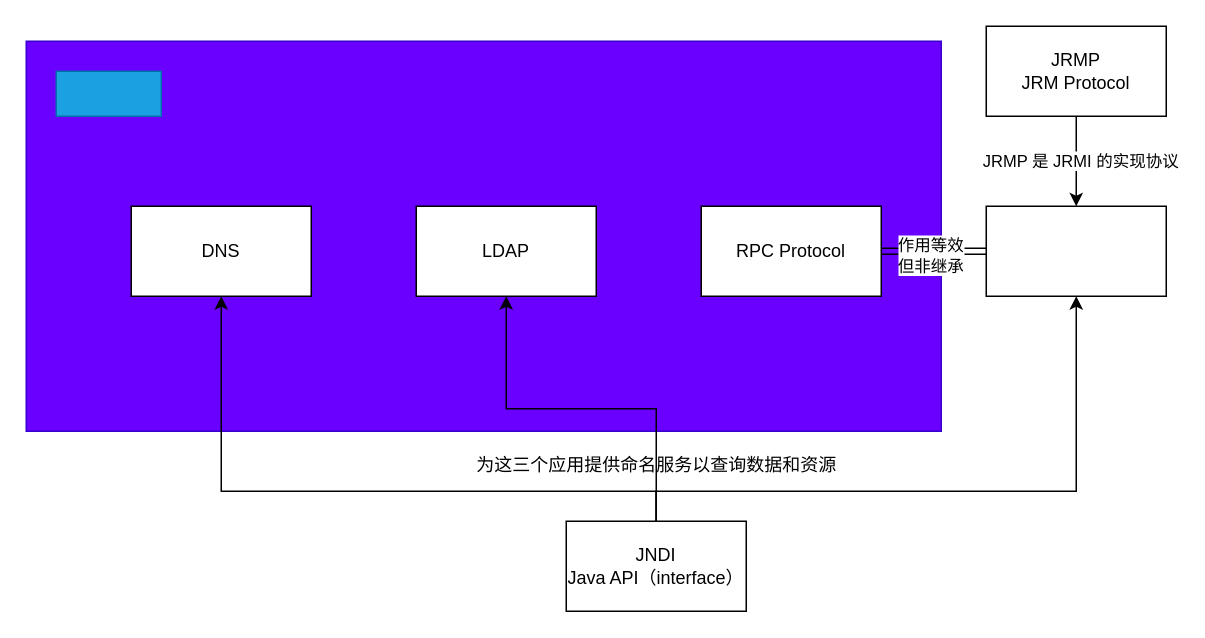
This 1205x638 diagram has some shape labels left out. The shapes that lost their labels are listed below. From the top down, each one's box as (x1, y1, x2, y2) in pixels, then its label:
(55, 70, 161, 116): 应用层协议
(985, 205, 1166, 296): RMI（JRMI） Java API
